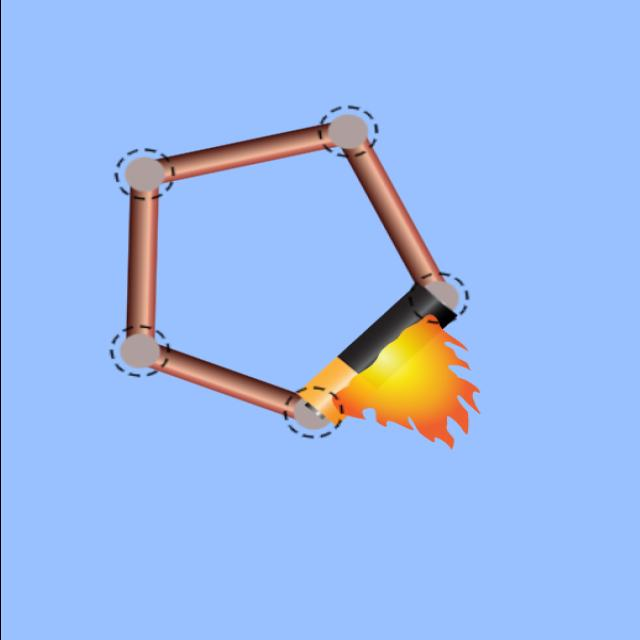Wire: (343, 141, 443, 286), (151, 346, 299, 418), (158, 124, 335, 182), (125, 188, 159, 336)
battery with fire: (298, 285, 478, 448)
